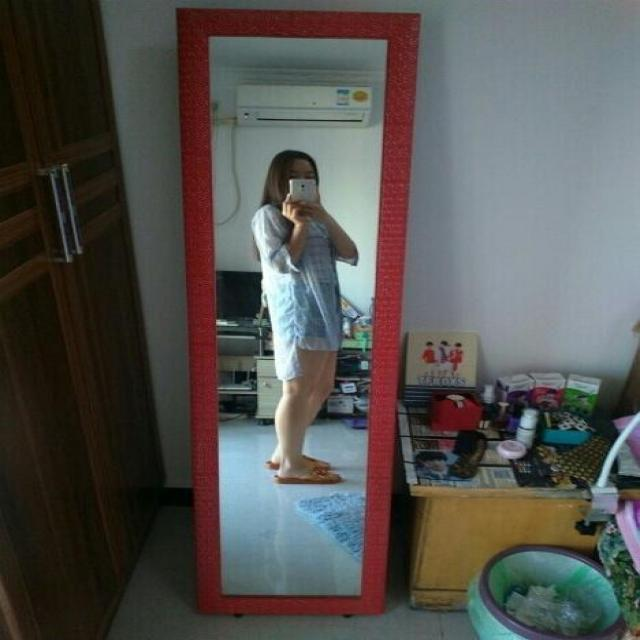long sleeve outwear: (256, 202, 335, 378)
